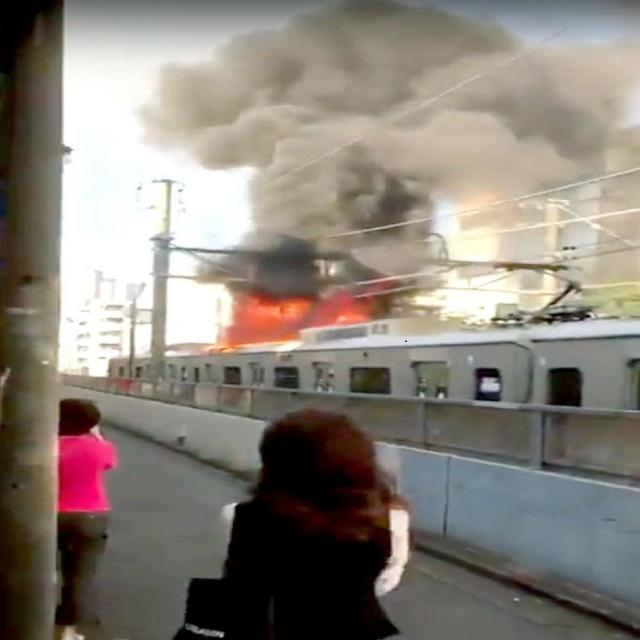Fire: (230, 300, 360, 330)
Smoke: (218, 29, 622, 175), (261, 186, 423, 297)
